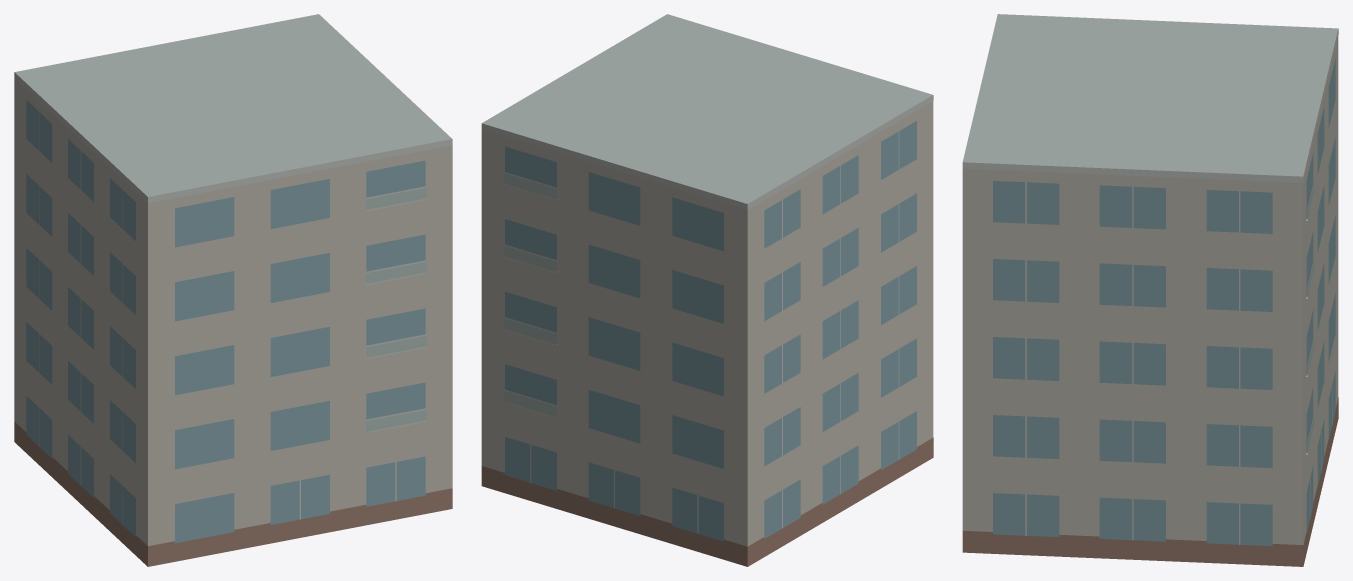
Rendered from survey-upis-32670946.glb.
3 views of the same model, side by side, from view 1: azimuth 30°, elevation 25°; view 2: azimuth 150°, elevation 25°; view 3: azimuth 270°, elevation 25° (orthographic). The views are drawn at different scales.
Visible parts, largest first — view 1: survey-upis-32670946.tmp; view 2: survey-upis-32670946.tmp; view 3: survey-upis-32670946.tmp.
Part boxes in pixels (x1,y1,x2,y2): survey-upis-32670946.tmp: (14, 14, 452, 566); survey-upis-32670946.tmp: (481, 14, 933, 566); survey-upis-32670946.tmp: (962, 14, 1338, 566).
Size of the model in its own units: 13.23 by 14.8 by 12.93.
